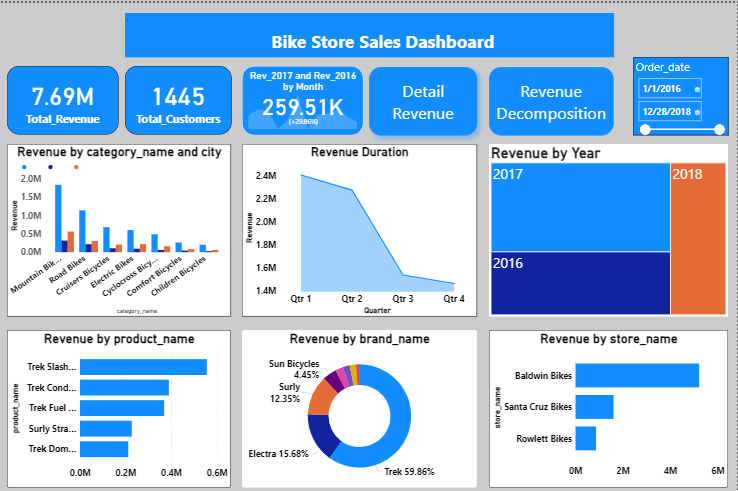

This screenshot's page, from the dashboard's own definition file:
{"tool":"powerbi","page":{"name":"Dashboard","canvas":[1280,720],"ordinal":0},"visuals":[{"type":"lineChart","title":"Revenue by year","fields":{"Category":["orders.order_date.Variation.Date Hierarchy.Year","orders.order_date.Variation.Date Hierarchy.Quarter","orders.order_date.Variation.Date Hierarchy.Month","orders.order_date.Variation.Date Hierarchy.Day"],"Y":["measures_table.Revenue"]},"box":[365.9,239.5,693.6,267.4],"z":0},{"type":"card","fields":{"Values":["measures_table.Sum_of_revenue"]},"box":[19.1,88.2,220.4,130.8],"z":1000},{"type":"donutChart","fields":{"Y":["measures_table.Revenue"],"Category":["brands.brand_name"]},"box":[480.5,520.2,374.7,189.6],"z":2000},{"type":"clusteredColumnChart","fields":{"Category":["categories.category_name"],"Y":["measures_table.Revenue"],"Series":["stores.city"]},"box":[19.1,239.5,335,267.4],"z":3000},{"type":"slicer","fields":{"Values":["orders.order_date"]},"box":[1090.3,239.5,158.7,170.4],"z":4000},{"type":"card","fields":{"Values":["measures_table.Total_Customers"]},"box":[264.5,88.2,202.8,130.8],"z":5000},{"type":"kpi","fields":{"TrendLine":["orders.Month"],"Goal":["measures_table.Revenue_2016"],"Indicator":["measures_table.Revenue_2017"]},"box":[495.2,88.2,246.9,124.9],"z":6000},{"type":"shape","box":[768.5,88.2,233.6,124.9],"z":7000},{"type":"barChart","fields":{"Y":["measures_table.Revenue"],"Category":["products.product_name"]},"box":[19.1,520.2,420.2,189.6],"z":8000},{"type":"shape","title":"Bike Store Sales Dashboard","box":[19.1,10.3,1229.9,61.7],"z":9000},{"type":"barChart","fields":{"Category":["stores.store_name"],"Y":["measures_table.Revenue"]},"box":[886,520.2,373.2,189.6],"z":10000},{"type":"shape","box":[1026.2,93.8,233.8,124.6],"z":10001}]}

Visuals, with their boxes on the page's 1280x720 design canvas (x1, y1, x2, y2). These are canvas units, not pixel positions in the 738x491 screenshot, which may show the page scaled, cropped or inside an application window:
"Revenue by year" lineChart: (366, 240, 1060, 507)
card - measures_table.Sum_of_revenue: (19, 88, 240, 219)
donutChart - measures_table.Revenue x brands.brand_name: (480, 520, 855, 710)
clusteredColumnChart - categories.category_name x measures_table.Revenue: (19, 240, 354, 507)
slicer - orders.order_date: (1090, 240, 1249, 410)
card - measures_table.Total_Customers: (264, 88, 467, 219)
kpi - orders.Month x measures_table.Revenue_2016: (495, 88, 742, 213)
shape: (768, 88, 1002, 213)
barChart - measures_table.Revenue x products.product_name: (19, 520, 439, 710)
"Bike Store Sales Dashboard" shape: (19, 10, 1249, 72)
barChart - stores.store_name x measures_table.Revenue: (886, 520, 1259, 710)
shape: (1026, 94, 1260, 218)
